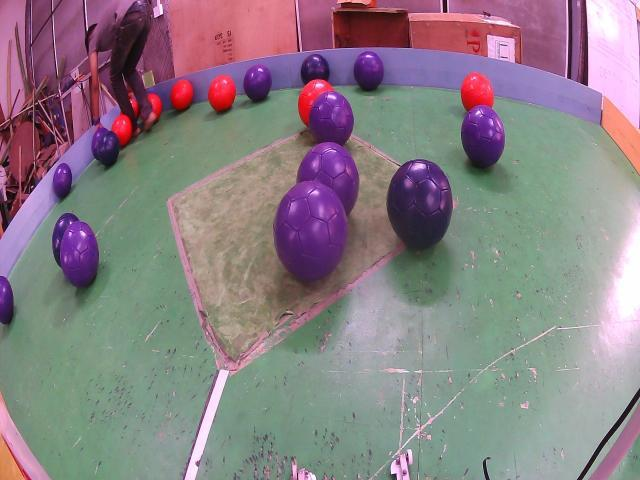jambhalya: (272, 180, 348, 280), (296, 142, 360, 215), (461, 105, 505, 167), (60, 222, 99, 287), (309, 90, 354, 145), (354, 52, 384, 90), (244, 65, 272, 102), (52, 163, 72, 198), (0, 275, 14, 323), (91, 127, 108, 160)
kaalyya: (386, 160, 452, 248), (52, 212, 79, 267), (300, 53, 330, 85), (98, 130, 120, 167)
